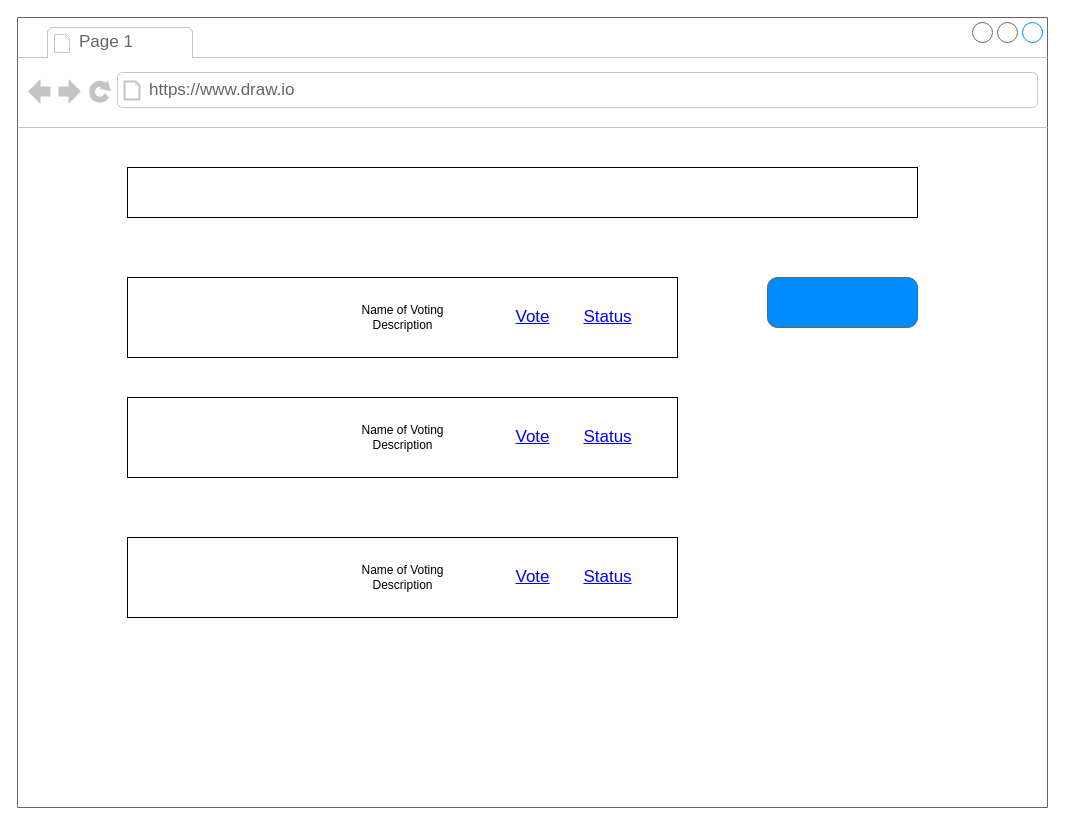
This 1065x825 diagram has some shape labels left out. Here are the shapes that lost their labels. From the top down, the centre of each, then its label:
At [522,192]: "Layout".
At [842,302]: "Make a New Voting".
